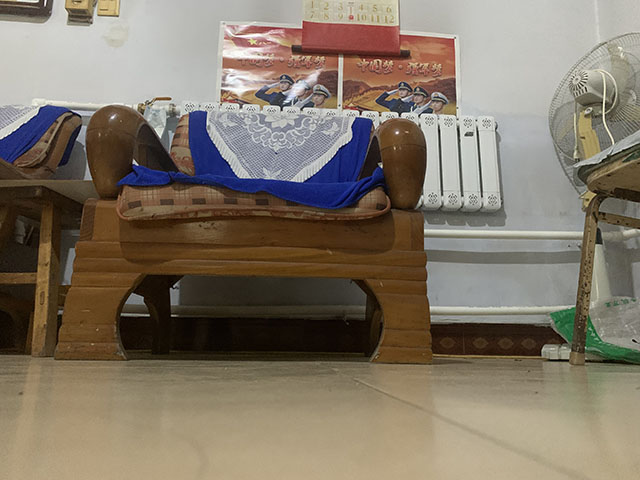sofa: (52, 94, 435, 367)
stool: (568, 143, 640, 366), (1, 186, 83, 358)
